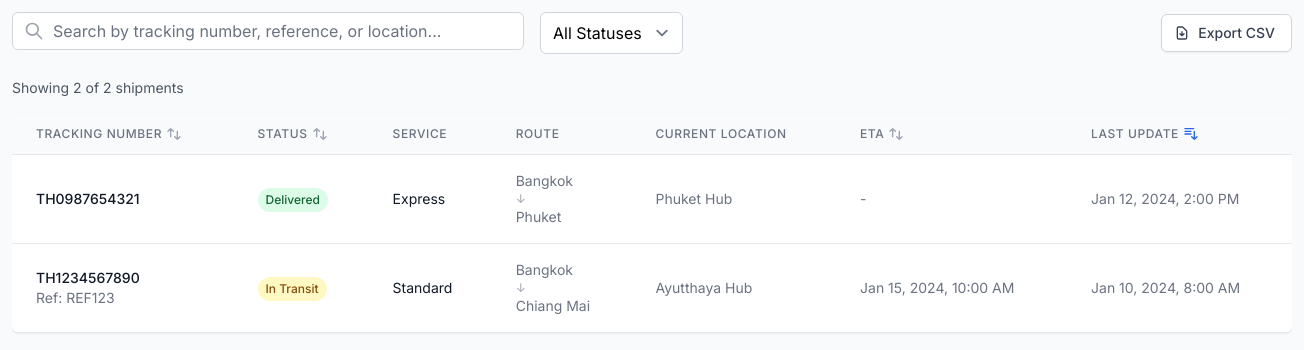
Test case: BulkView › filters shipments by search query
The image size is (1304, 350).
Type "TH1234567890" into the field with placeholder "Search by tracking number, reference, or location..." at (268,31), box [12, 12, 524, 50]
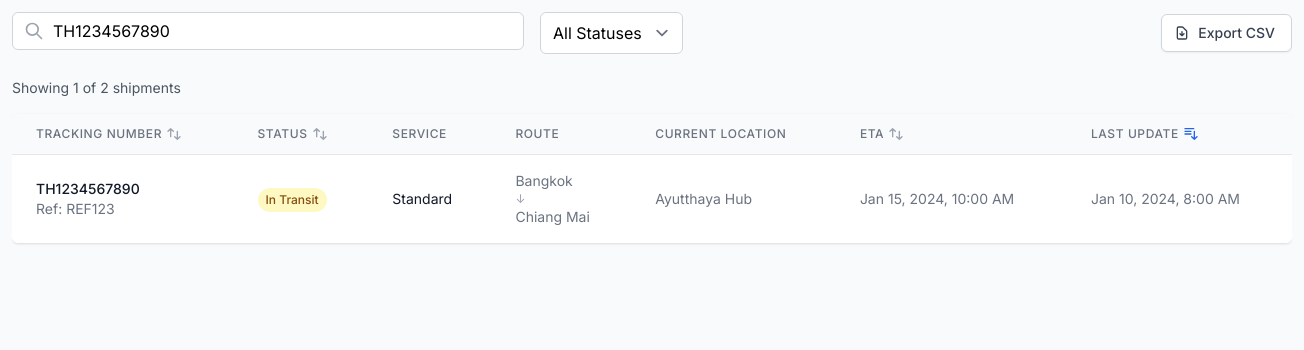
Expected: the text "TH1234567890" is shown, [36, 180, 140, 197]
Expected: the text "TH0987654321" is gone
